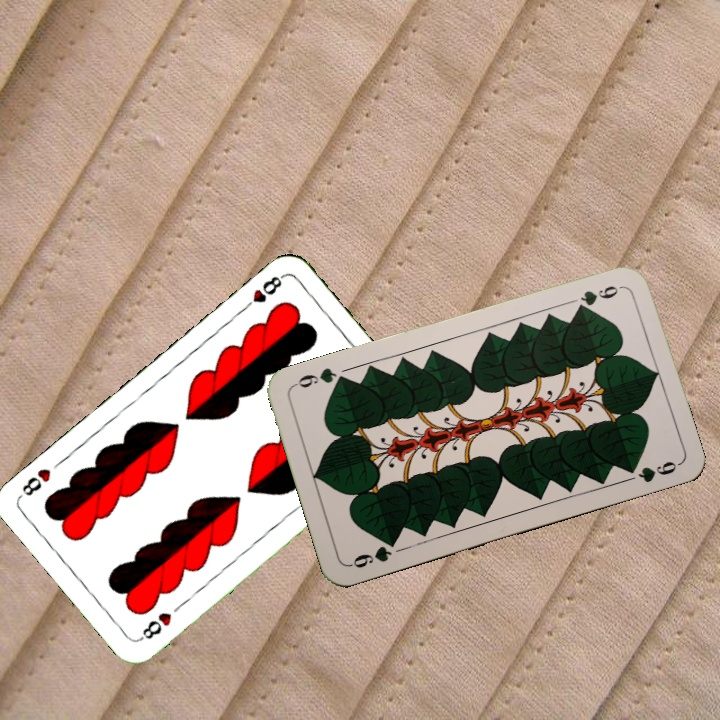G9: (345, 535, 400, 571), (572, 281, 626, 313)
H8: (238, 270, 287, 314), (136, 608, 175, 644)
